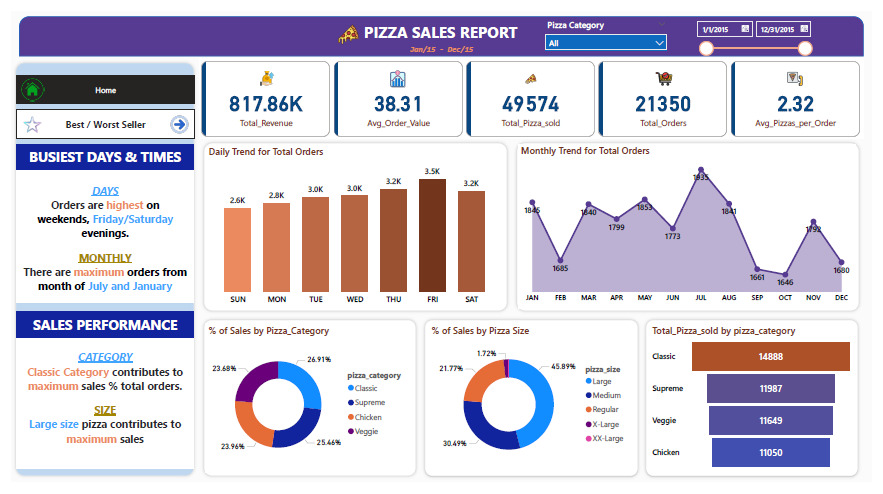

What the dashboard file says about the page in this screenshot:
{"tool":"powerbi","page":{"name":"Home","canvas":[1500,820],"ordinal":0},"visuals":[{"type":"shape","box":[0,81.7,326.7,736.7],"z":0},{"type":"shape","box":[872.9,221.4,612.9,308.6],"z":1000,"group":"g1"},{"type":"shape","box":[326.7,221.7,545,308.3],"z":1000},{"type":"cardVisual","fields":{"Data":["Measure.Total_Revenue","Measure.Avg_Order_Value","Measure.Total_Pizza_sold","Measure.Total_Orders","Measure.Avg_Pizzas_per_Order"]},"box":[326.7,81.7,1160,140],"z":2000},{"type":"shape","box":[13.3,8.3,1473.3,70],"z":3000},{"type":"textbox","box":[600,11.7,298.3,50],"z":4000},{"type":"textbox","box":[680,51.7,140,33.3],"z":5000},{"type":"image","box":[553.3,1.7,70,73.3],"z":6000},{"type":"columnChart","title":"Daily Trend for Total Orders","fields":{"Y":["Measure.Total_Orders"],"Category":["pizzadb pizza_sales.Order_day"]},"box":[338.9,233.3,520,286.7],"z":7000},{"type":"group","id":"g1","title":"Group 2","box":[872.9,221.4,612.9,308.6],"z":8000},{"type":"stackedAreaChart","title":"Monthly Trend for Total Orders","fields":{"Category":["pizzadb pizza_sales.Order_Month"],"Y":["Measure.Total_Orders"]},"box":[884.3,231.4,588.6,287.1],"z":8000,"group":"g1"},{"type":"shape","box":[712.5,530,387.5,288.8],"z":9000},{"type":"shape","box":[1098.8,530,386.2,288.8],"z":10000},{"type":"shape","box":[326.7,530,386.7,288.3],"z":11000},{"type":"donutChart","title":"% of Sales by Pizza_Category","fields":{"Category":["pizzadb pizza_sales.pizza_category"],"Y":["Measure.Total_Revenue"]},"box":[338.8,545,361.2,260],"z":12000},{"type":"funnel","fields":{"Y":["Measure.Total_Pizza_sold"],"Category":["pizzadb pizza_sales.pizza_category"]},"box":[1112.5,545,360,260],"z":13000},{"type":"donutChart","title":"% of Sales by Pizza Size","fields":{"Y":["Measure.Total_Revenue"],"Category":["pizzadb pizza_sales.pizza_size"]},"box":[727.5,545,358.8,260],"z":14000},{"type":"textbox","box":[8,568,310,230],"z":15000},{"type":"textbox","box":[8,524,310,44],"z":16000},{"type":"textbox","box":[8.3,231.7,310,45],"z":17000},{"type":"textbox","box":[8.3,276.7,310,230],"z":18000},{"type":"slicer","fields":{"Values":["pizzadb pizza_sales.pizza_category"]},"box":[921.7,8.3,231.7,66.7],"z":19000},{"type":"slicer","fields":{"Values":["pizzadb pizza_sales.order_date"]},"box":[1184.3,5.7,221.4,75.7],"z":20000},{"type":"pageNavigator","box":[8.6,111.4,310,50],"z":21000},{"type":"pageNavigator","box":[8.6,171.4,310,50],"z":22000},{"type":"image","box":[8.6,111.4,55.7,50],"z":25000},{"type":"image","box":[7.1,171.4,57.1,50],"z":25500},{"type":"image","box":[267.1,171.4,51.4,50],"z":26000}]}

Visuals, with their boxes in screenshot pixels (x1, y1, x2, y2), scaled from the page's 1500x820 canvas onto the 883x494 screenshot:
shape: bbox(0, 49, 192, 493)
shape: bbox(514, 133, 875, 319)
shape: bbox(192, 134, 513, 319)
cardVisual - Measure.Total_Revenue x Measure.Avg_Order_Value: bbox(192, 49, 875, 134)
shape: bbox(8, 5, 875, 47)
textbox: bbox(353, 7, 529, 37)
textbox: bbox(400, 31, 483, 51)
image: bbox(326, 1, 367, 45)
"Daily Trend for Total Orders" columnChart: bbox(199, 141, 506, 313)
"Group 2" group: bbox(514, 133, 875, 319)
"Monthly Trend for Total Orders" stackedAreaChart: bbox(521, 139, 867, 312)
shape: bbox(419, 319, 648, 493)
shape: bbox(647, 319, 874, 493)
shape: bbox(192, 319, 420, 493)
"% of Sales by Pizza_Category" donutChart: bbox(199, 328, 412, 485)
funnel - Measure.Total_Pizza_sold x pizzadb pizza_sales.pizza_category: bbox(655, 328, 867, 485)
"% of Sales by Pizza Size" donutChart: bbox(428, 328, 639, 485)
textbox: bbox(5, 342, 187, 481)
textbox: bbox(5, 316, 187, 342)
textbox: bbox(5, 140, 187, 167)
textbox: bbox(5, 167, 187, 305)
slicer - pizzadb pizza_sales.pizza_category: bbox(543, 5, 679, 45)
slicer - pizzadb pizza_sales.order_date: bbox(697, 3, 827, 49)
pageNavigator: bbox(5, 67, 188, 97)
pageNavigator: bbox(5, 103, 188, 133)
image: bbox(5, 67, 38, 97)
image: bbox(4, 103, 38, 133)
image: bbox(157, 103, 187, 133)
